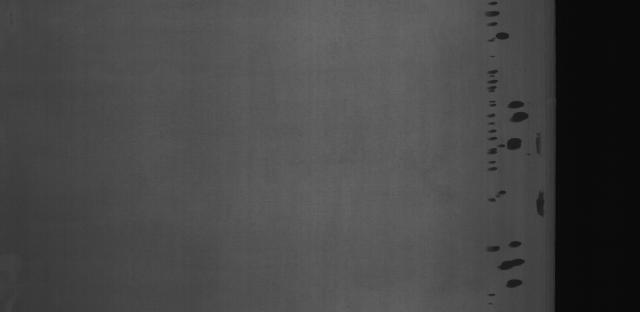oil_spot: (485, 6, 507, 216), (476, 230, 530, 293), (499, 94, 538, 160), (528, 183, 549, 219)
